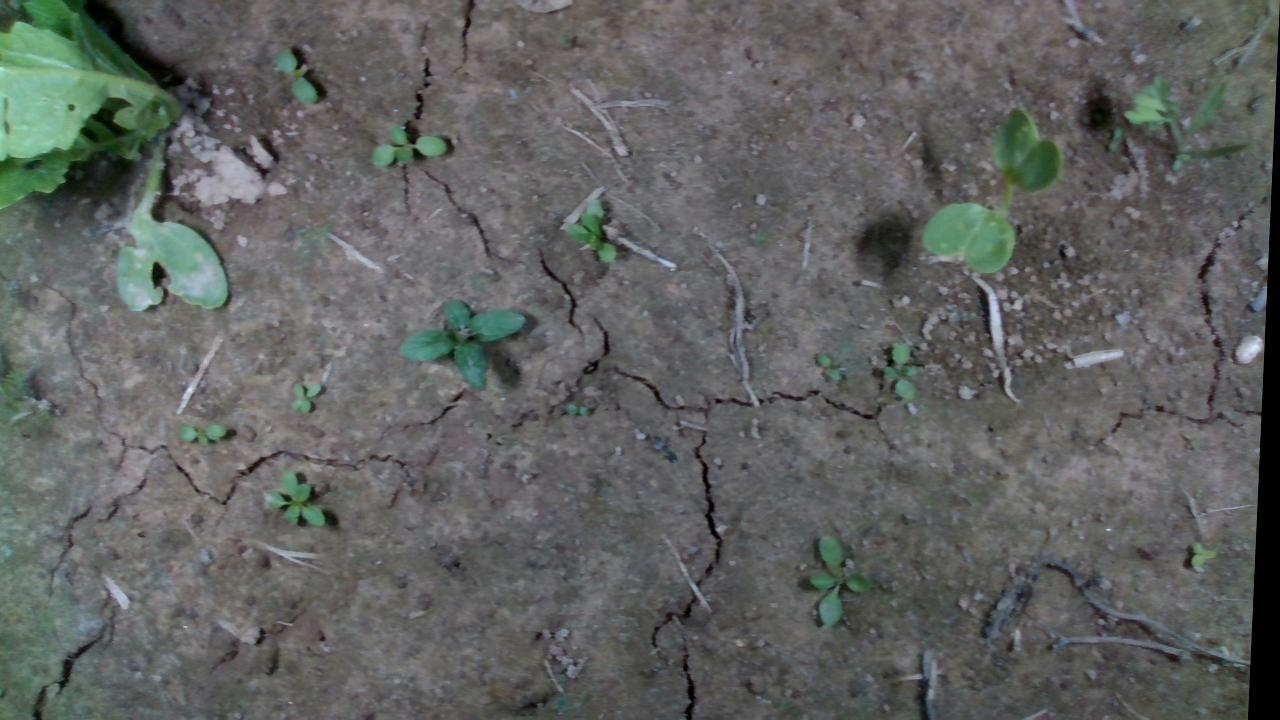weed: (393, 296, 531, 397), (808, 534, 878, 629), (265, 467, 333, 529), (561, 197, 620, 265), (369, 122, 449, 167), (270, 47, 320, 106), (881, 337, 924, 402), (179, 422, 230, 449), (290, 380, 325, 416), (1191, 539, 1222, 572), (817, 351, 845, 383)
